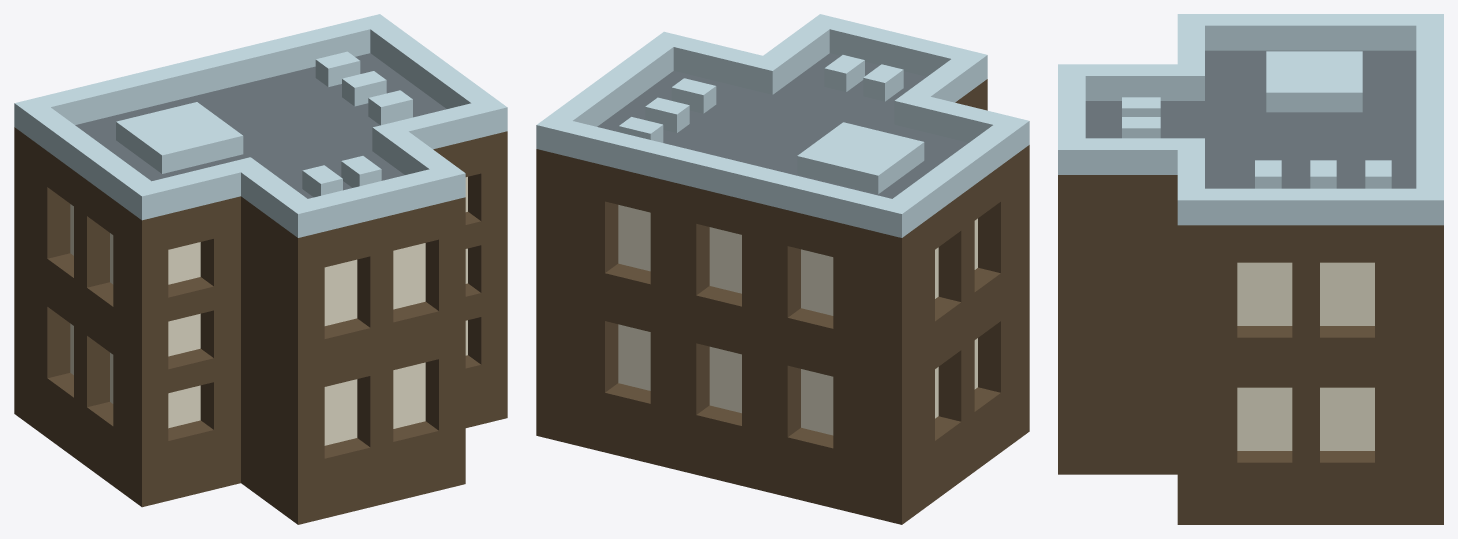
The model's file is Building_12_Extra (Brown).obj.
The picture shows the model from 3 angles, left to right: view 1: azimuth 30°, elevation 25°; view 2: azimuth 150°, elevation 25°; view 3: azimuth 270°, elevation 25°; orthographic projection. The views are drawn at different scales.
Visible parts, largest first — view 1: Building_12_Extra_(Brown); view 2: Building_12_Extra_(Brown); view 3: Building_12_Extra_(Brown).
Part boxes in pixels (x1,y1,x2,y2): Building_12_Extra_(Brown): (14,14,507,524); Building_12_Extra_(Brown): (536,14,1029,524); Building_12_Extra_(Brown): (1058,14,1443,524).
Bounding box in the file's own units: 1.6 × 1.3 × 1.4.
